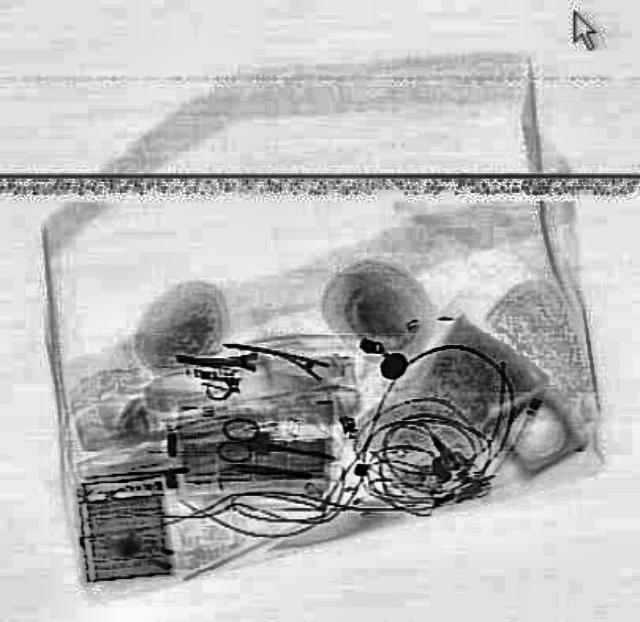Scissors: (212, 415, 340, 480)
